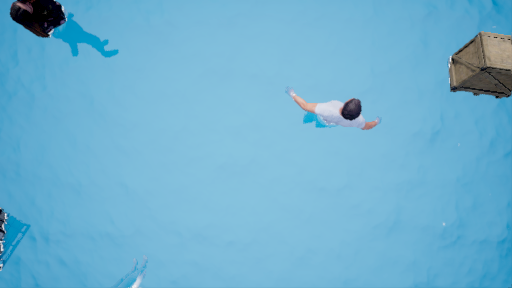person: (12, 4, 124, 67), (285, 81, 370, 147)
